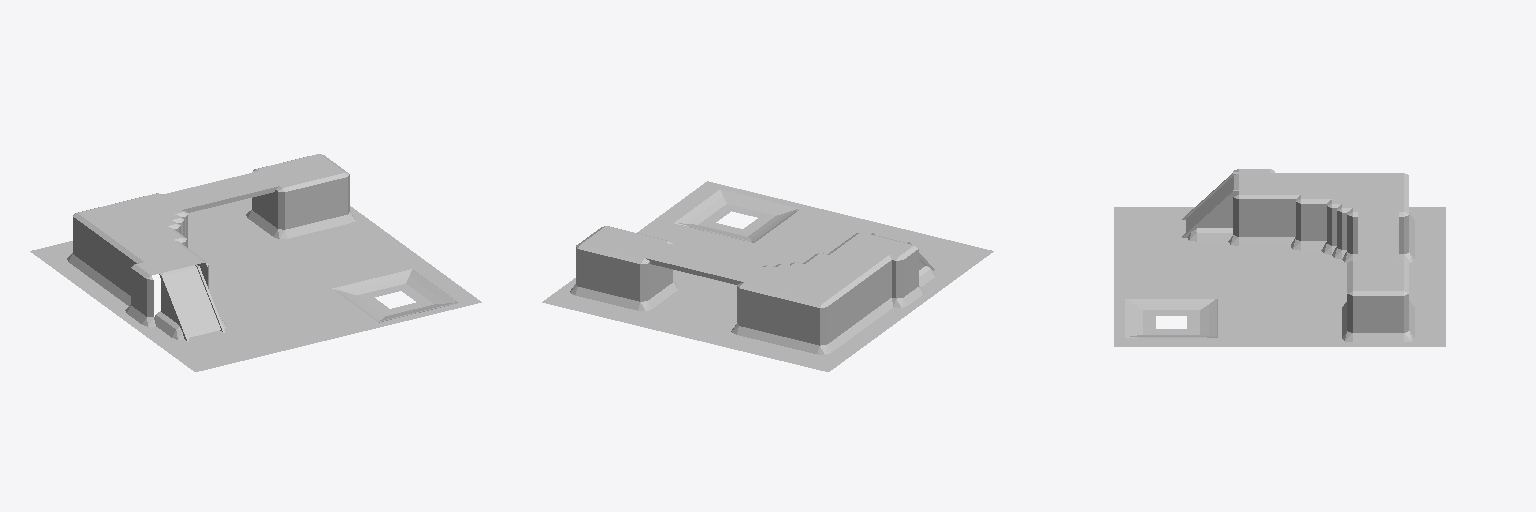
Rendered from TestMap1.obj.
3 renders of one model, left to right at view 1: azimuth 30°, elevation 25°; view 2: azimuth 150°, elevation 25°; view 3: azimuth 270°, elevation 25°, orthographic.
Parts seen in each view (by area): view 1: map; view 2: map; view 3: map.
Boxes of the visible parts, <box> form: map: <box>30,154,481,371</box>; map: <box>542,181,993,371</box>; map: <box>1114,169,1445,346</box>.
Size of the model in its own units: 32 by 5.56 by 32.